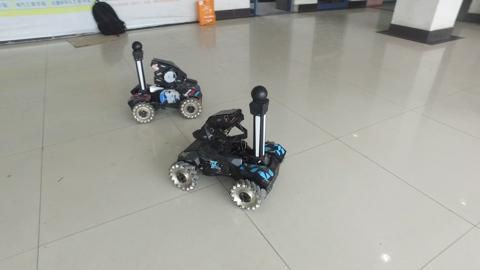bag: (89, 1, 139, 40)
chariot: (165, 83, 287, 213), (123, 38, 207, 130)
